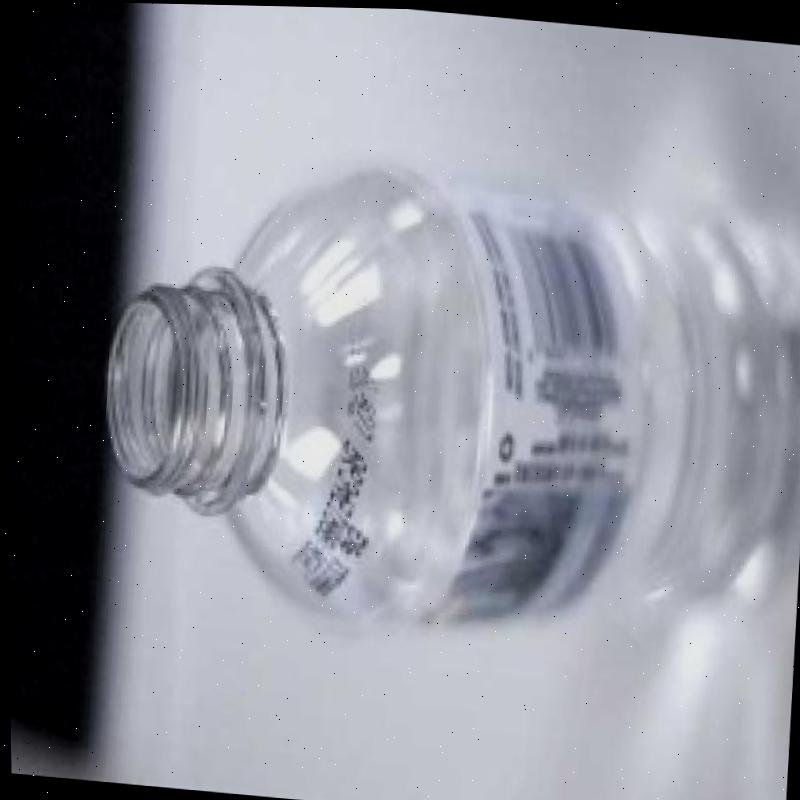botella: (83, 140, 800, 661)
